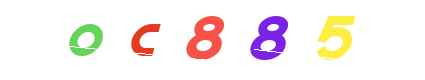5: (294, 0, 374, 80)
8: (170, 0, 250, 80), (230, 0, 310, 80)
C: (147, 0, 227, 80)
O: (46, 0, 126, 80)
